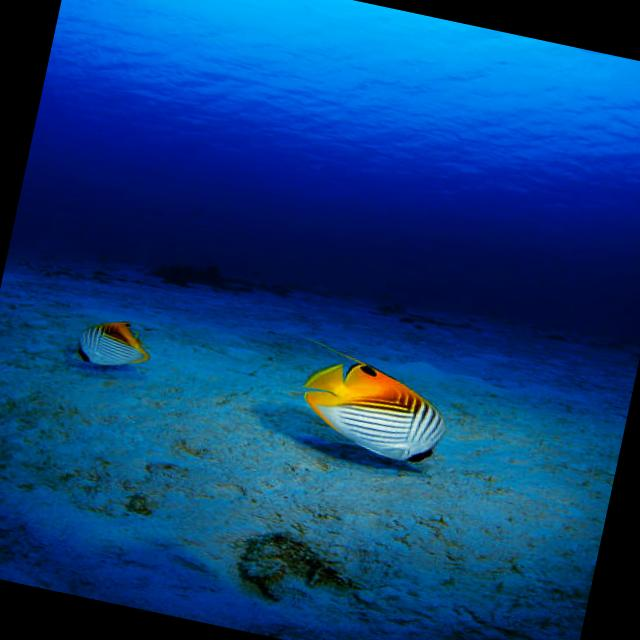ButterflyFish: (296, 349, 455, 473), (78, 316, 158, 379)
